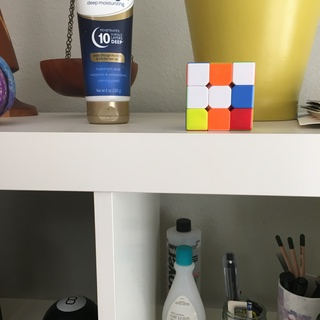face: (186, 63, 254, 131)
